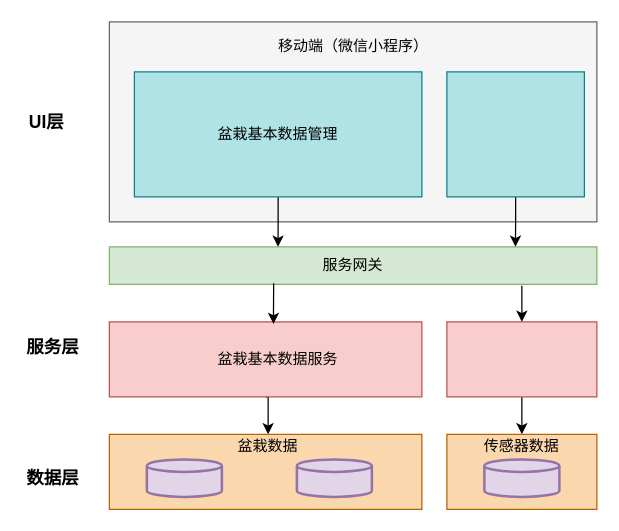
Image size: 619x531. Some labels were removed from this diagram. Each missing label, with the centre of its shape:
"传感器数据传输服务" belongs at [521,359].
"传感器模块" belongs at [515,134].
